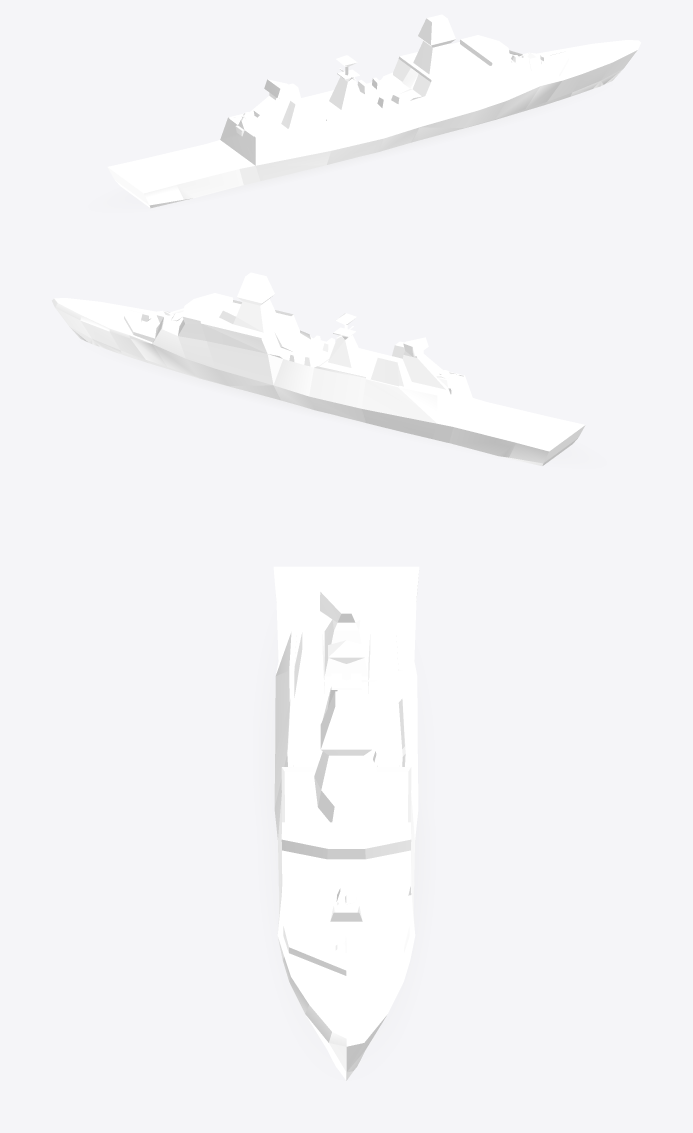
Rendered from AIS_Military-A_001.glb.
3 views of the same model, one above another, from view 1: azimuth 30°, elevation 25°; view 2: azimuth 150°, elevation 25°; view 3: azimuth 270°, elevation 25° (orthographic). The views are drawn at different scales.
Parts seen in each view (by area): view 1: AIS_Military-A.002, SurfaceGraphic_whiteGlow.007; view 2: AIS_Military-A.002, SurfaceGraphic_whiteGlow.007; view 3: AIS_Military-A.002, SurfaceGraphic_whiteGlow.007.
Boxes of the visible parts, <box> form: AIS_Military-A.002: <box>107,14,640,208</box>; SurfaceGraphic_whiteGlow.007: <box>132,101,559,201</box>; AIS_Military-A.002: <box>52,272,585,466</box>; SurfaceGraphic_whiteGlow.007: <box>125,356,564,456</box>; AIS_Military-A.002: <box>273,566,419,1080</box>; SurfaceGraphic_whiteGlow.007: <box>267,683,421,928</box>.
Bounding box in the file's own units: 152 × 25.35 × 29.85.
2 materials, 1 textured.
